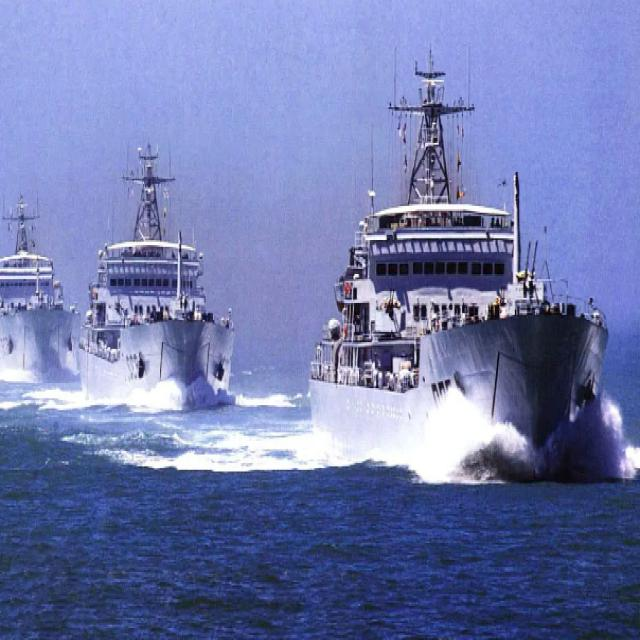navalvessels: (302, 52, 614, 472), (82, 141, 250, 414), (0, 160, 86, 386)
